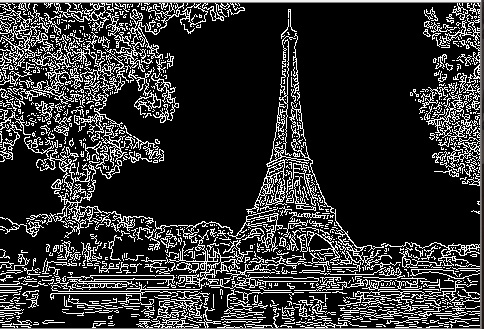eiffel tower: (246, 5, 353, 250)
